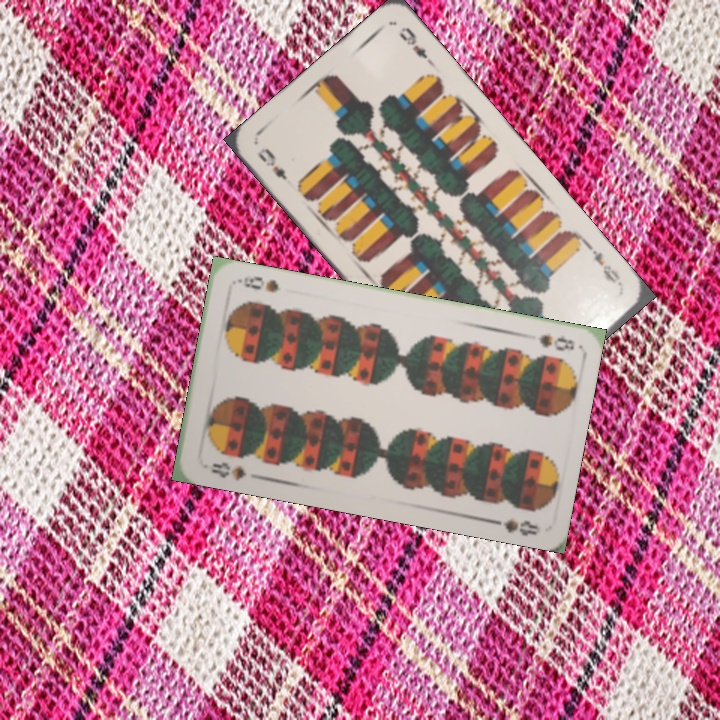E9: (583, 241, 627, 293), (253, 144, 290, 183)
S8: (207, 458, 249, 483), (535, 330, 577, 354)
